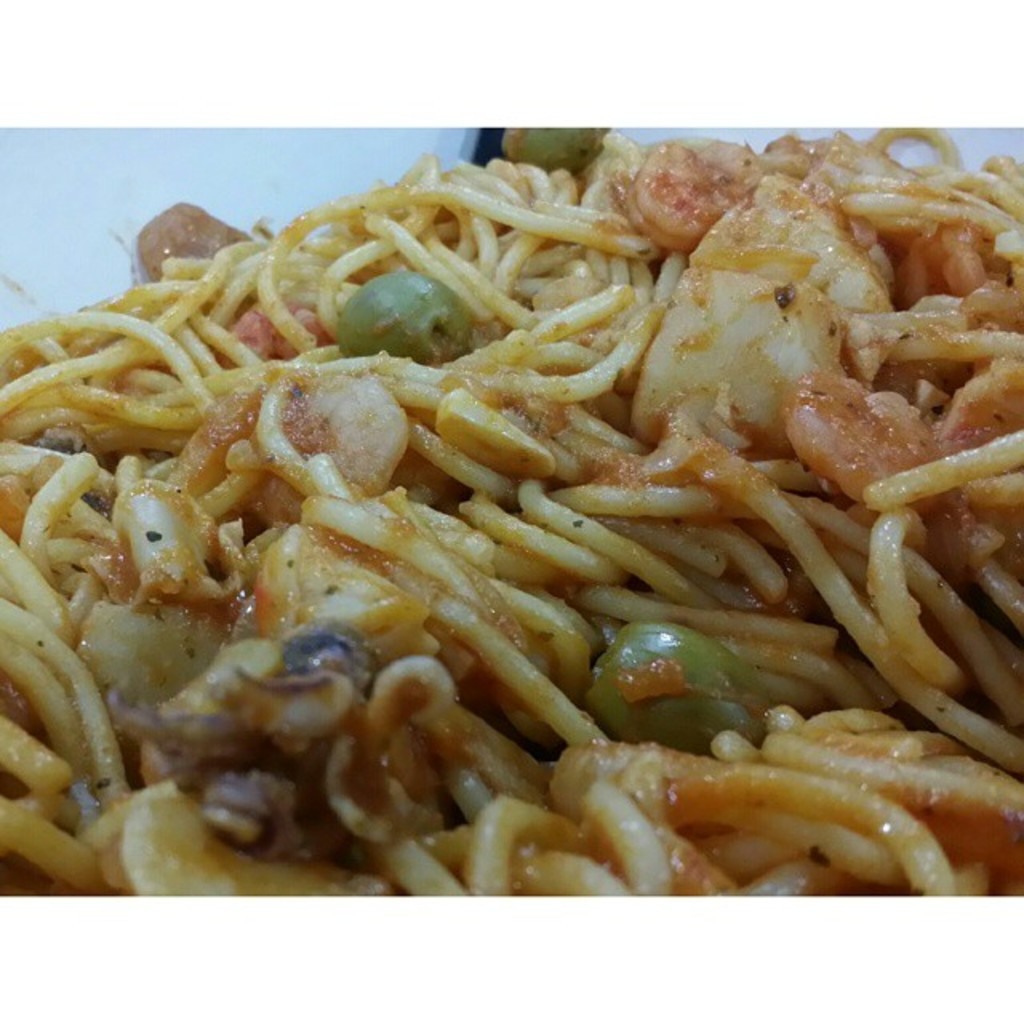pasta: (0, 126, 1022, 915), (0, 133, 1022, 906)
